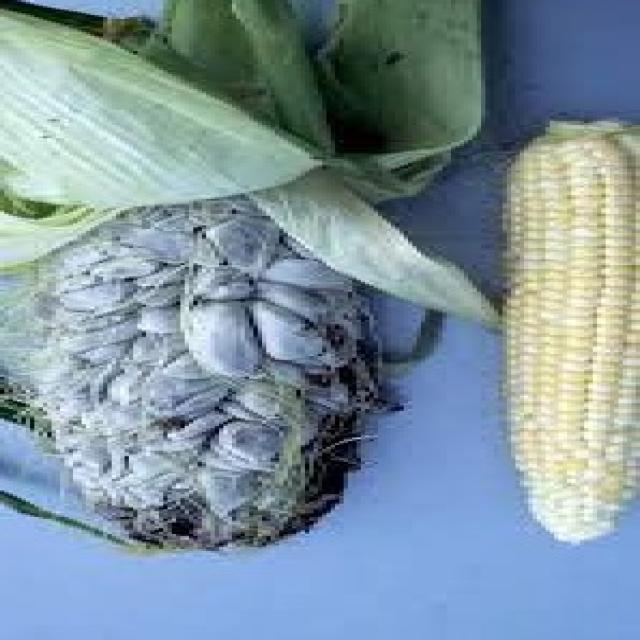Leaf_Scald: (0, 96, 472, 557)
